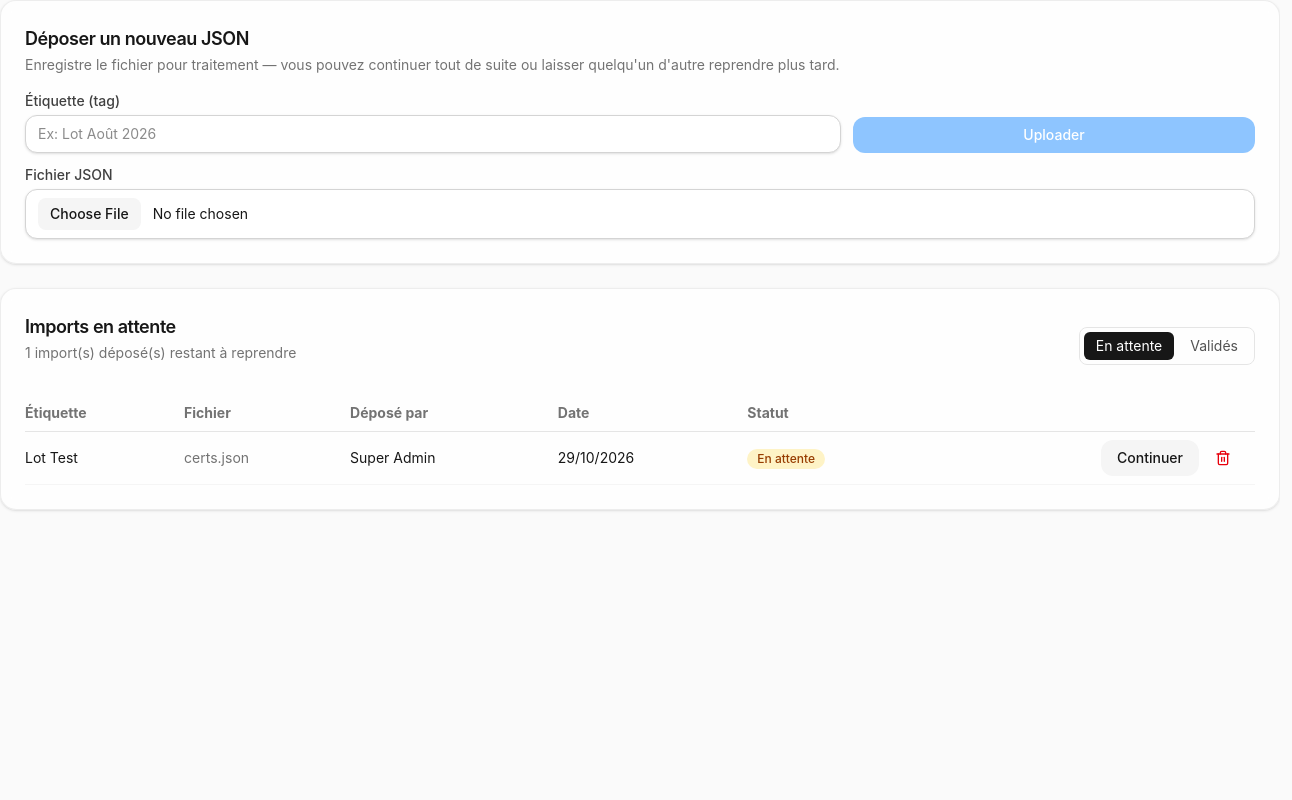
Scenario: ImportPage › submits the edited preview to the upload-scoped confirm endpoint
Expected: the text "Lot Test" is shown, [25,432,184,484]
Click the button "Continuer".
click(1150, 458)  # box [1101,440,1199,476]
(page scrolled)
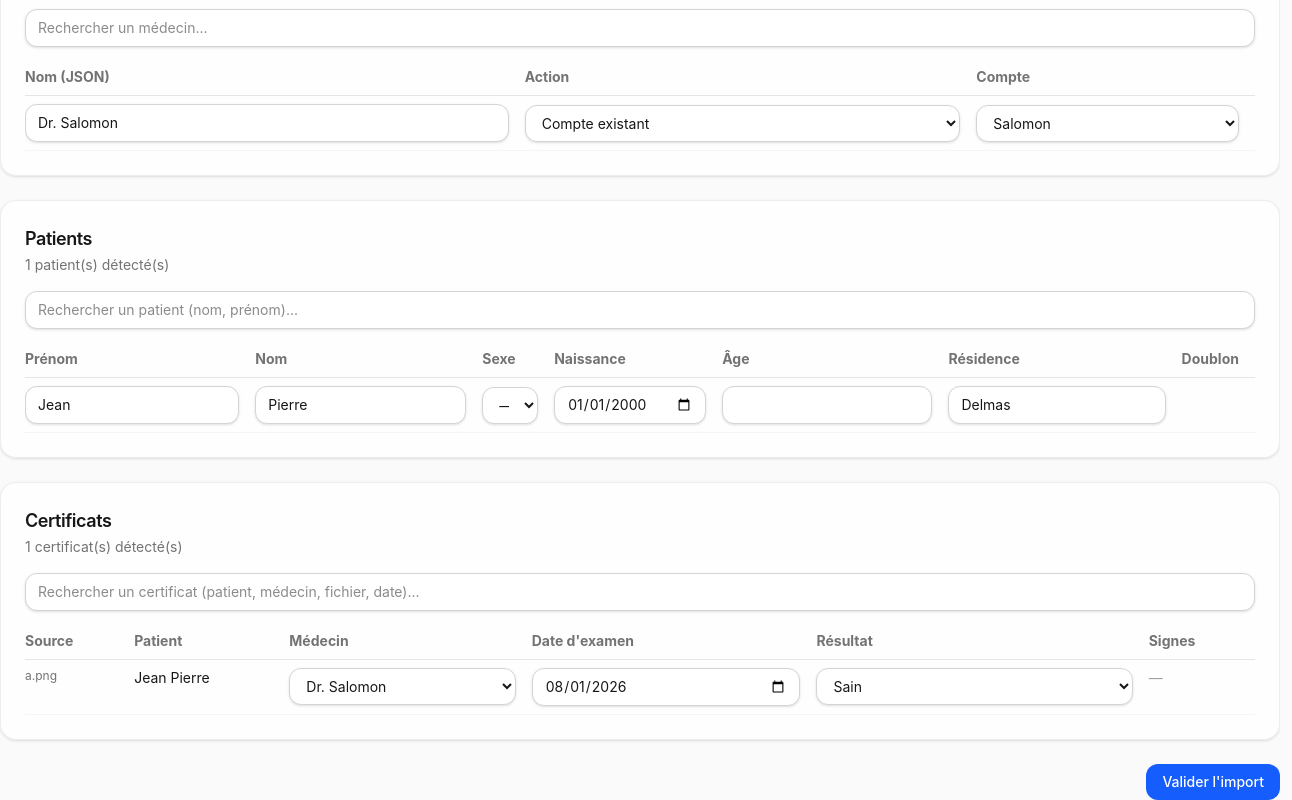
Result: the heading "Certificats" is shown at [25,510,111,531]
Replace the text in the 2nd field showing "Jean" with "Jeanne" at point(132, 405), box [25,386,239,424]
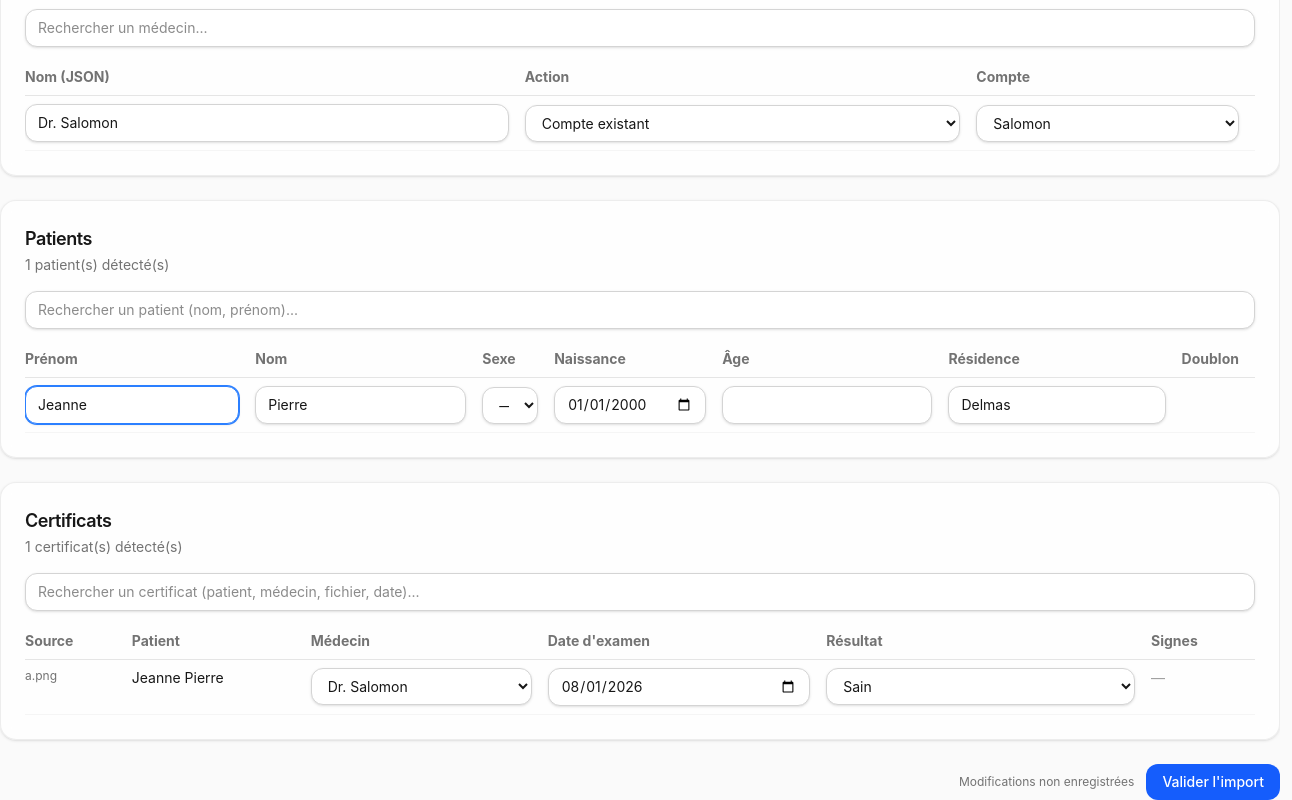
Click the button "Valider l'import".
click(1213, 782)  # box [1146,764,1280,799]
(page scrolled)
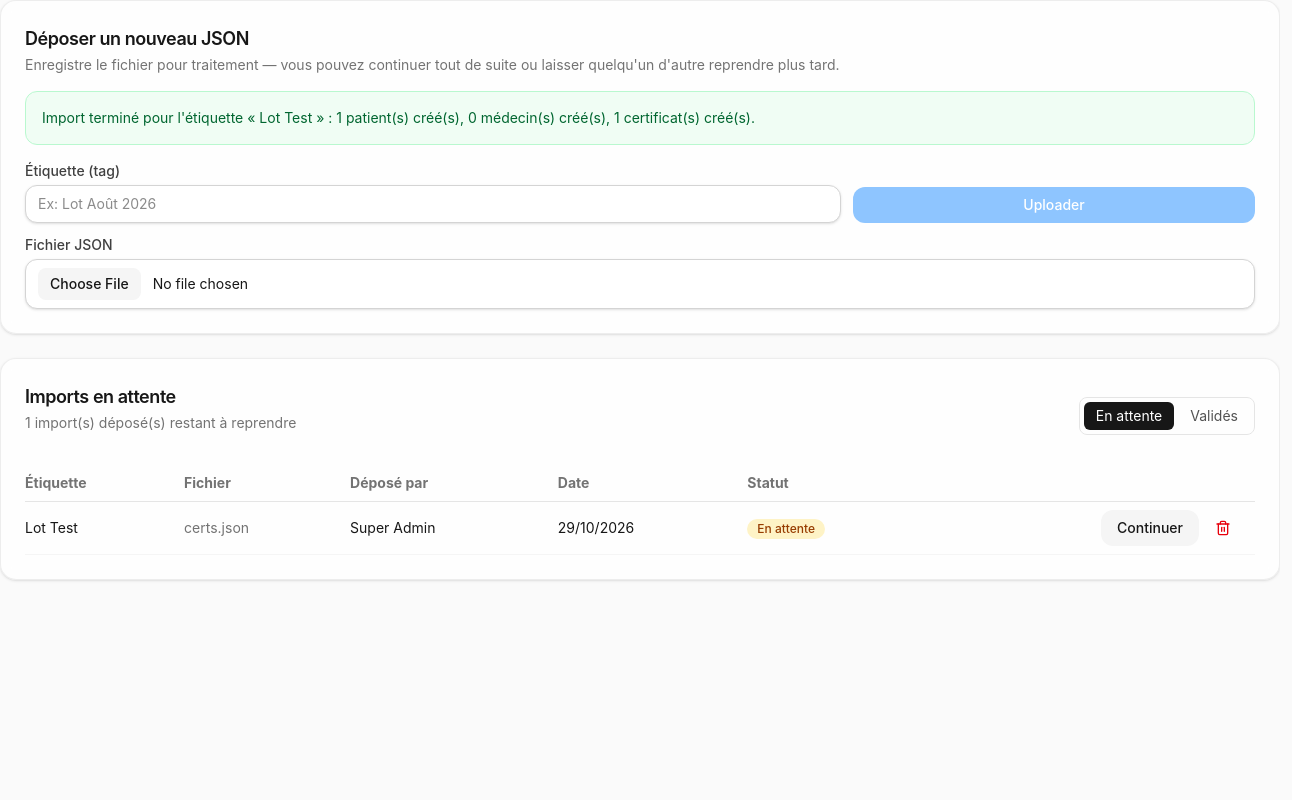
Result: the text "Import terminé" is shown at [42,109,259,126]
